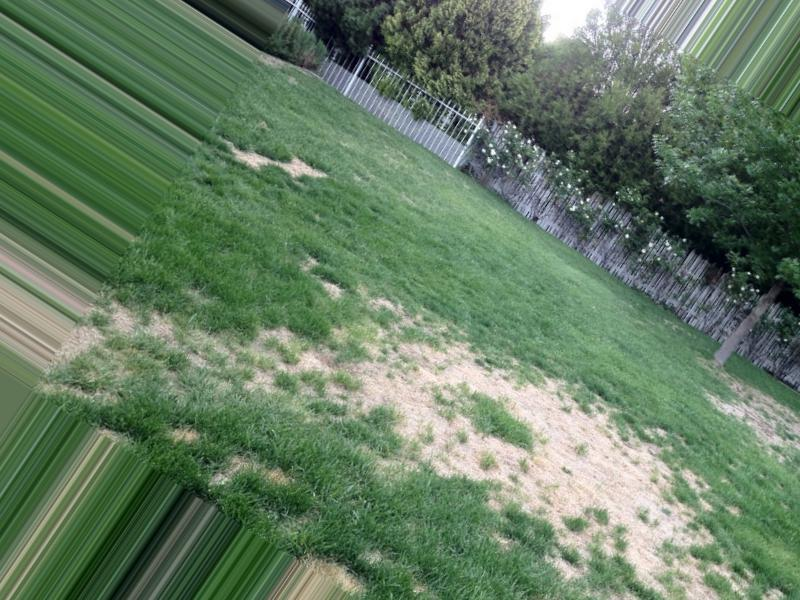patch: (353, 357, 532, 459), (539, 409, 643, 535), (733, 388, 788, 441), (244, 151, 309, 174)
